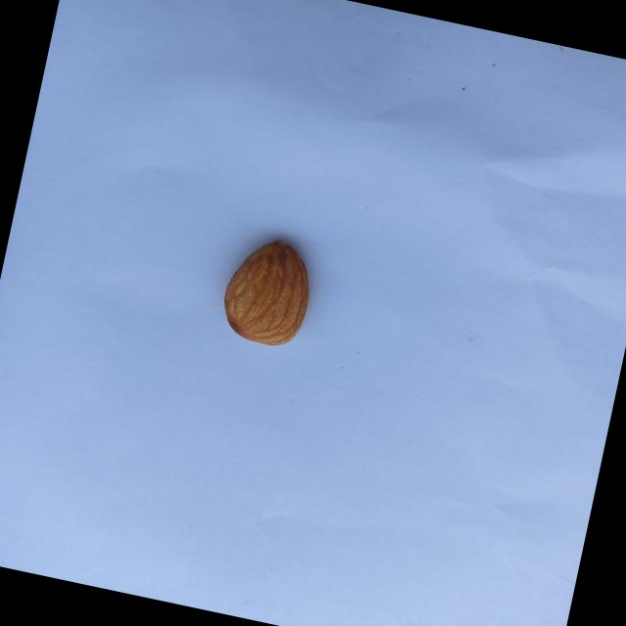grade1: (209, 223, 331, 360)
